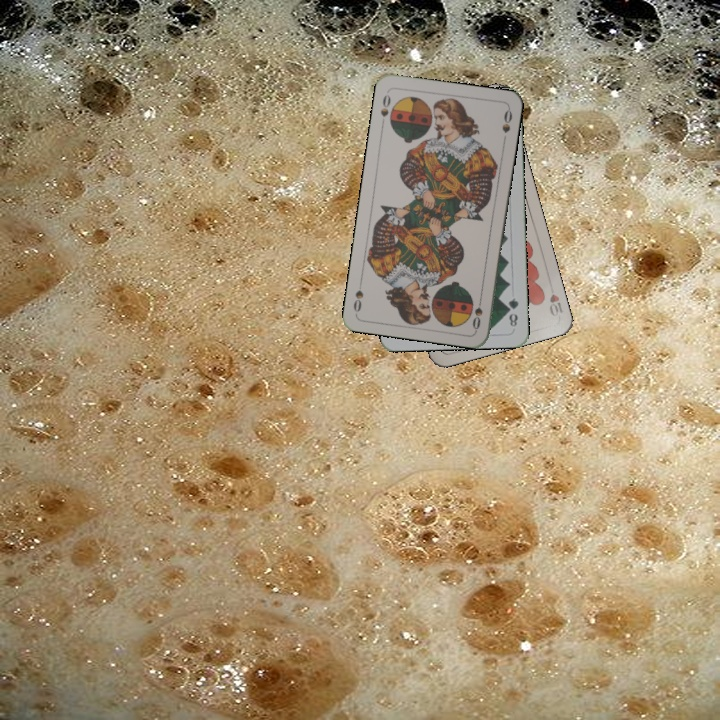G8: (503, 294, 521, 329)
H10: (545, 279, 566, 319)
SO: (468, 292, 485, 332), (377, 90, 393, 128)
